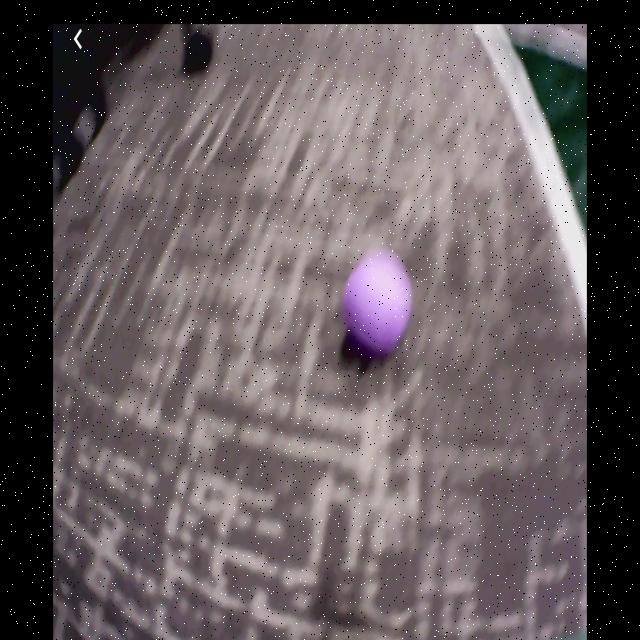ball: (342, 247, 414, 358)
